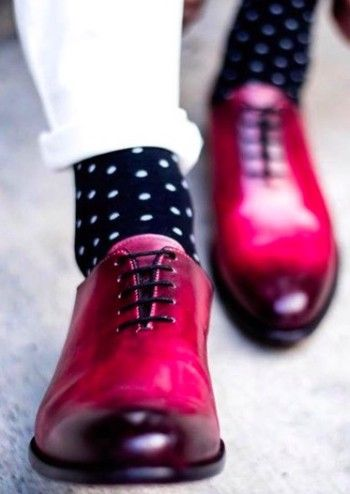shoe: (26, 206, 238, 491), (197, 74, 350, 357)
